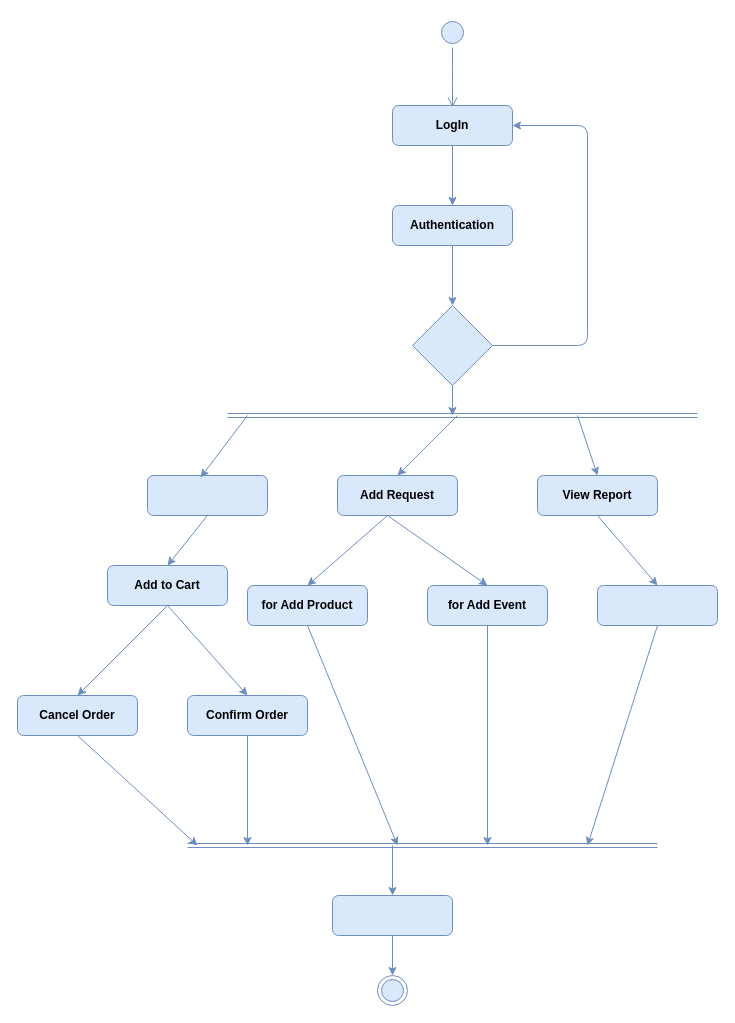
The diagram is 735 pixels wide and 1023 high, and some of its shapes have lost their labels. Here are the shapes that lost their labels. From the top down, the centre of each, then its label:
At point (452, 345): "Check".
At point (207, 495): "Search Product".
At point (657, 605): "Order Report".
At point (392, 915): "Logout".
